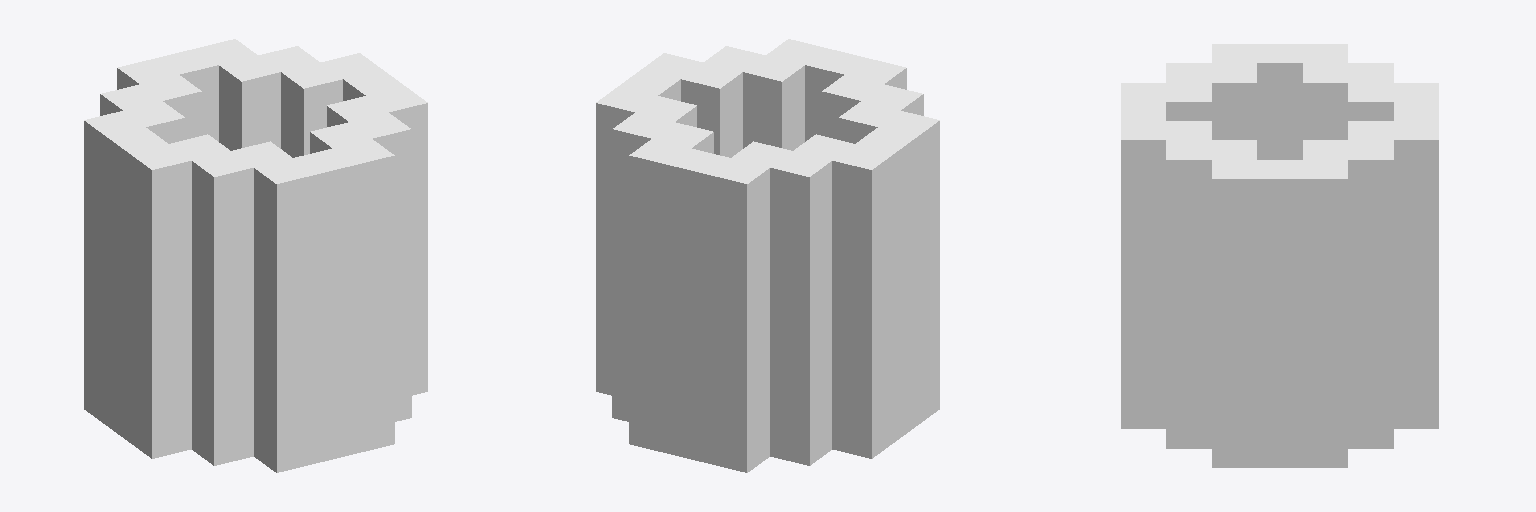
Rendered from drink.obj.
3 views of the same model, side by side, from view 1: azimuth 30°, elevation 25°; view 2: azimuth 150°, elevation 25°; view 3: azimuth 270°, elevation 25° (orthographic).
Visible parts, largest first — view 1: object 1; view 2: object 1; view 3: object 1.
Part boxes in pixels (x1,y1,x2,y2): object 1: (84,39,427,472); object 1: (596,39,939,472); object 1: (1121,44,1438,467).
Size of the model in its own units: 0.7 by 0.7 by 0.7.